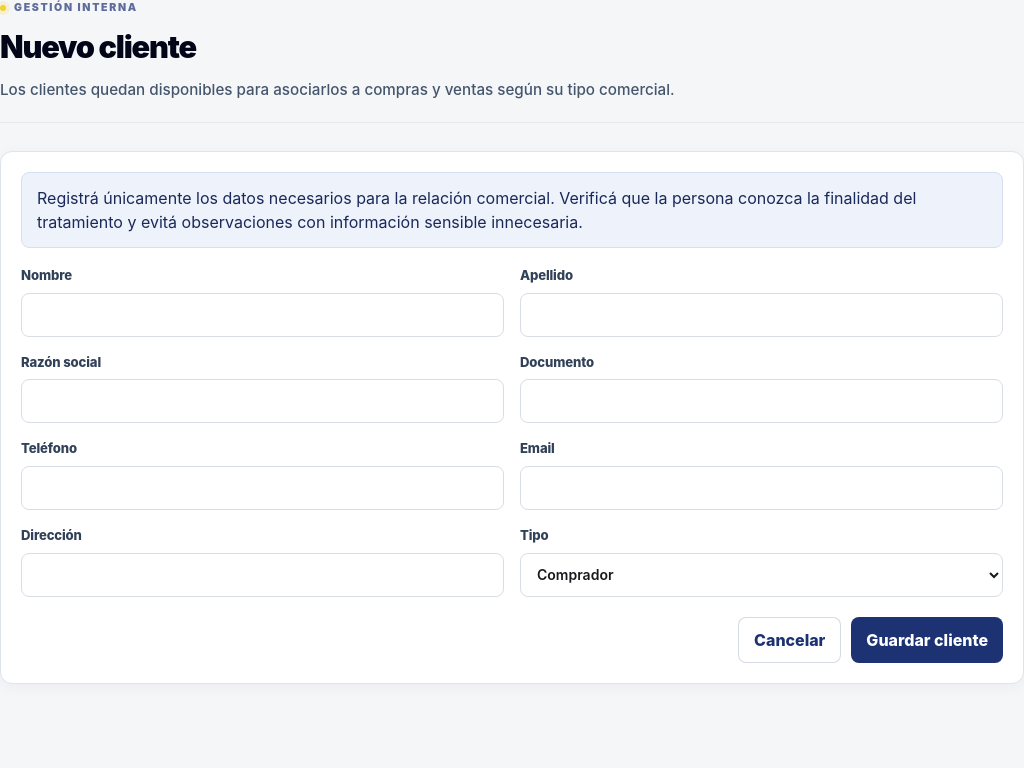
ClienteFormPage › impide guardar datos que no cumplen las validaciones principales
In the field labelled "Nombre": (262, 315) [21, 293, 504, 337], type "Ana"
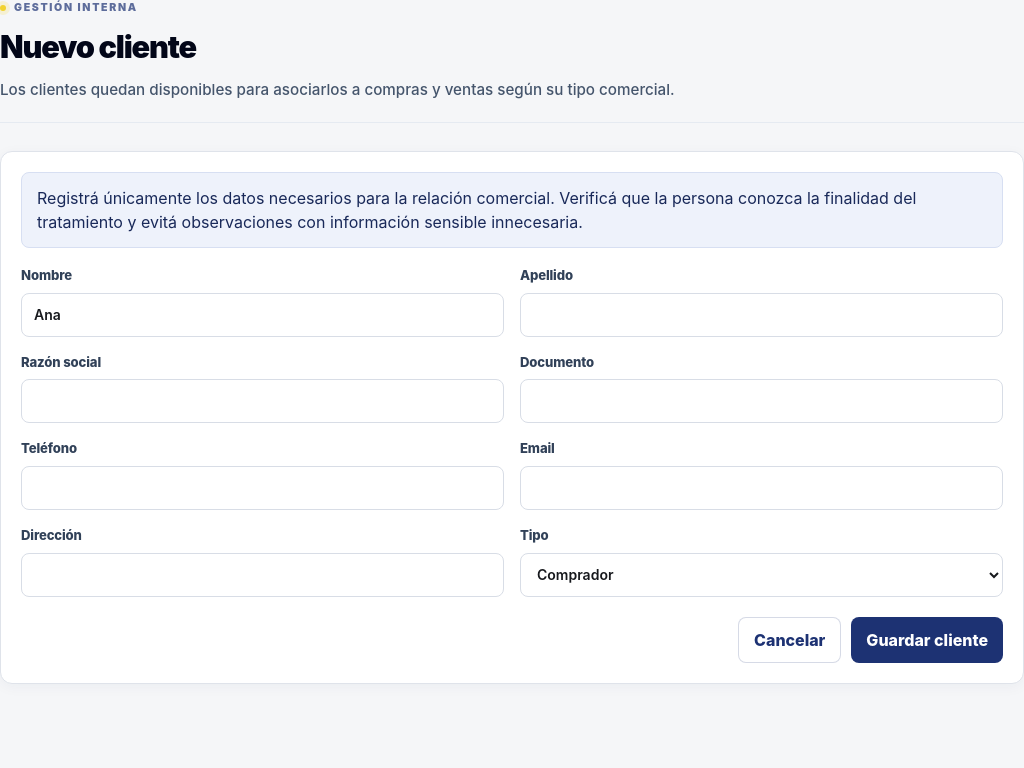
In the field labelled "Documento": (762, 401) [520, 379, 1003, 423], type "12"
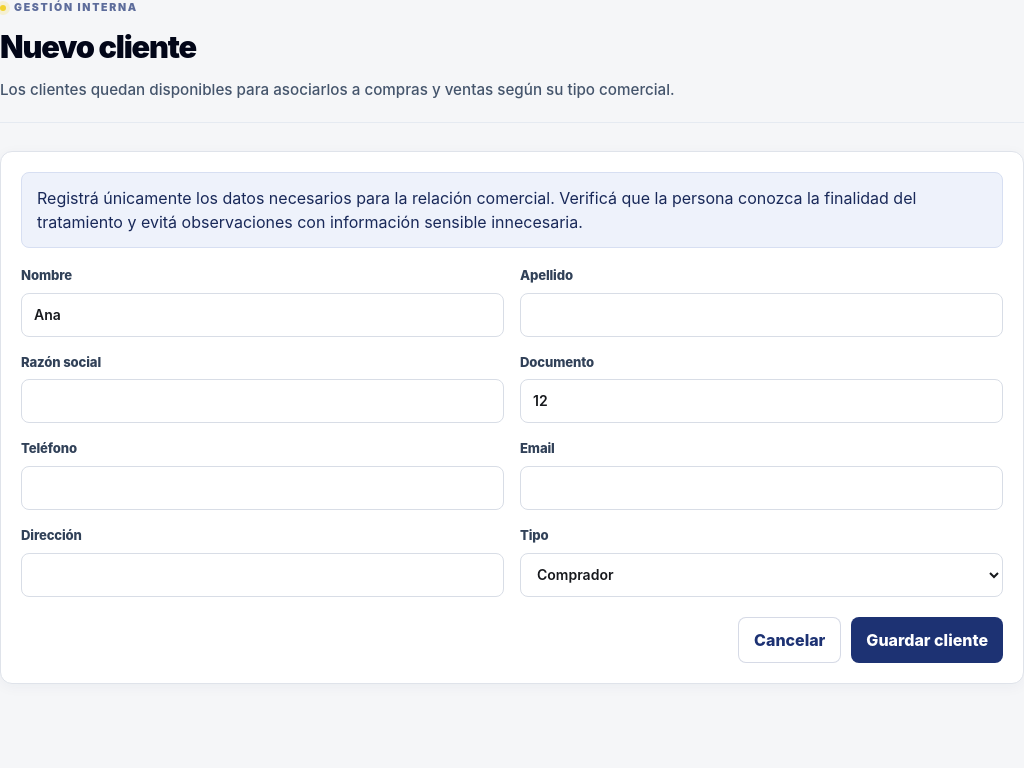
In the field labelled "Email": (762, 488) [520, 466, 1003, 510], type "correo-invalido"
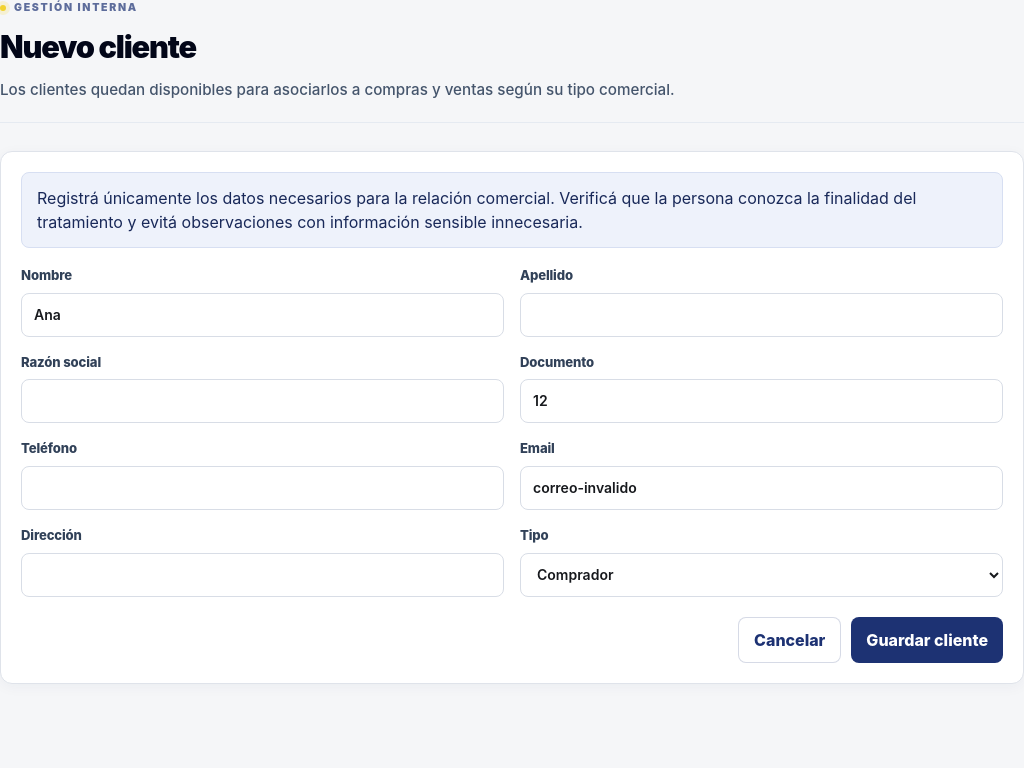
Click the button "Guardar cliente": (927, 640) [851, 617, 1003, 663]
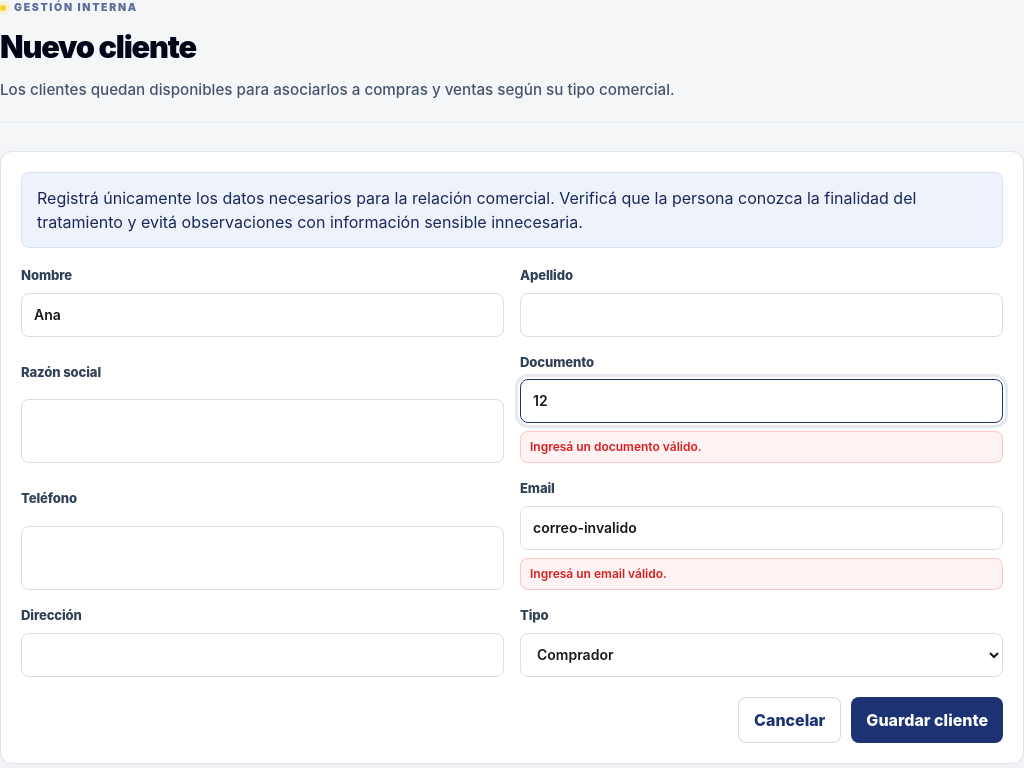
Expected: the text "Ingresá un documento válido." is shown, [520, 431, 1003, 463]
Expected: the text "Ingresá un email válido." is shown, [520, 558, 1003, 590]
